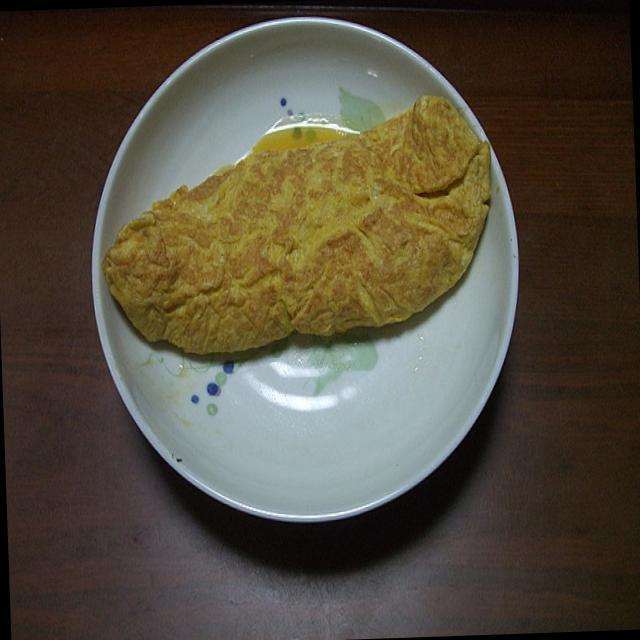Omelet: (93, 88, 515, 354)
